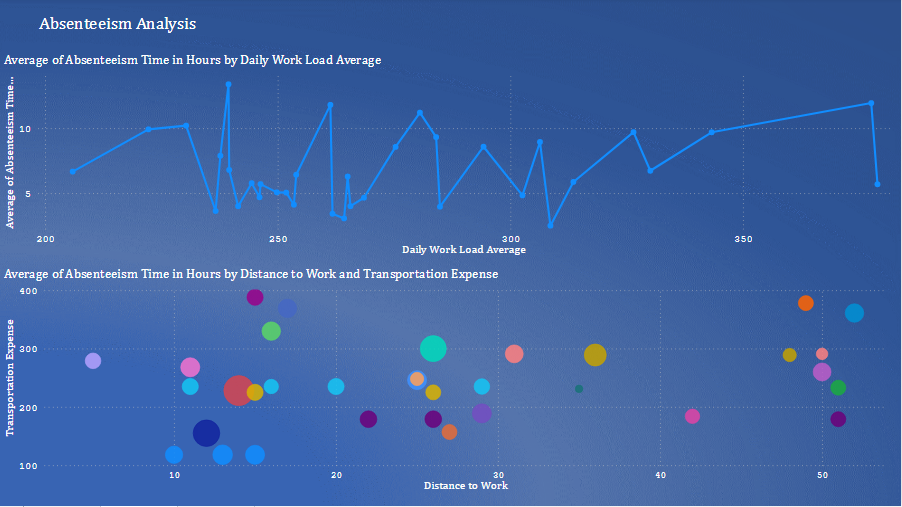

The dashboard page shown, as its layout file describes it:
{"tool":"powerbi","page":{"name":"Page 2","canvas":[1280,720],"ordinal":1},"visuals":[{"type":"lineChart","fields":{"Y":["Avg(Absenteeism_data.Absenteeism Time in Hours)"],"Category":["Absenteeism_data.Daily Work Load Average"]},"box":[4.3,78,1269.9,292],"z":0},{"type":"scatterChart","fields":{"Y":["Absenteeism_data.Transportation Expense"],"X":["Absenteeism_data.Distance to Work"],"Size":["Avg(Absenteeism_data.Absenteeism Time in Hours)"]},"box":[4.3,381.3,1269.9,323.1],"z":1000},{"type":"textbox","box":[0,18.7,341.3,47.5],"z":2000}]}

Visuals, with their boxes in screenshot pixels (x1, y1, x2, y2), scaled from the page's 1280x720 canvas onto the 902x507 screenshot:
lineChart - Avg(Absenteeism_data.Absenteeism Time in Hours) x Absenteeism_data.Daily Work Load Average: pyautogui.locateOnScreen(3, 55, 898, 261)
scatterChart - Absenteeism_data.Transportation Expense x Absenteeism_data.Distance to Work: pyautogui.locateOnScreen(3, 268, 898, 496)
textbox: pyautogui.locateOnScreen(0, 13, 241, 47)
